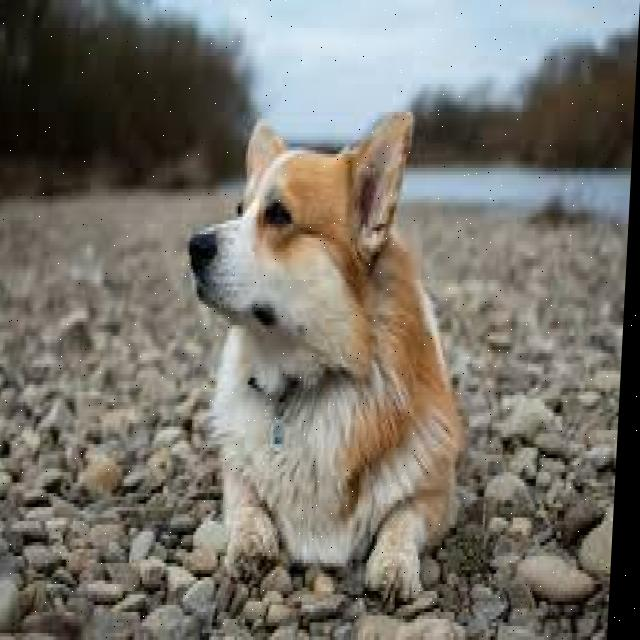CORGI: (177, 96, 484, 600)
